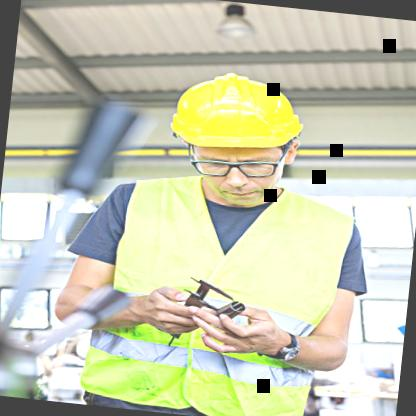helmet: (142, 48, 323, 216)
